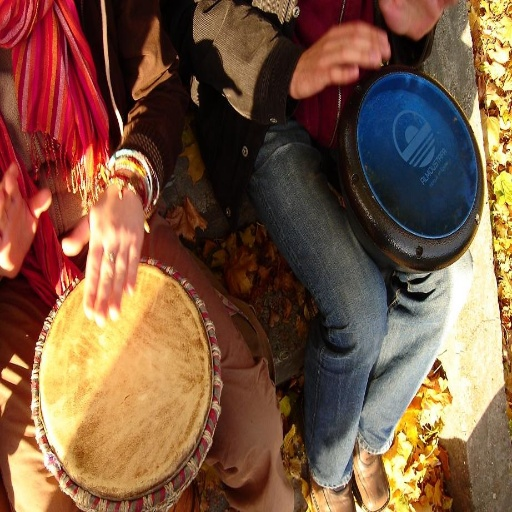hand: (58, 173, 146, 328), (284, 7, 398, 90), (0, 159, 51, 278), (379, 0, 461, 40)
